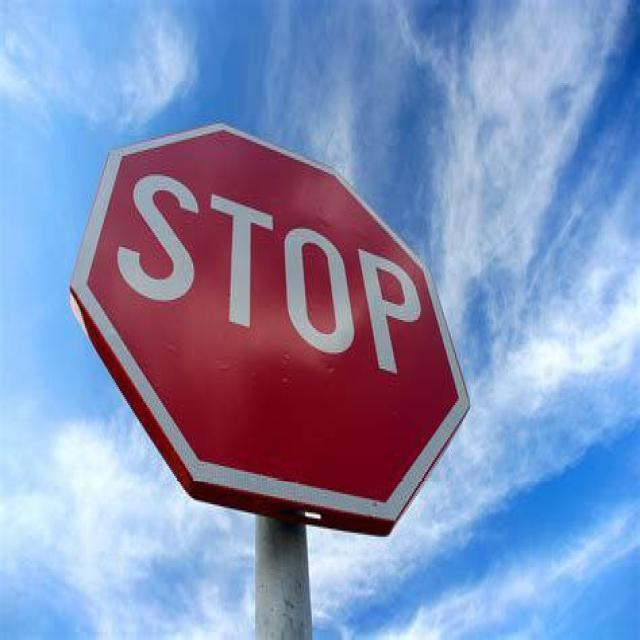stop: (70, 109, 478, 546)
